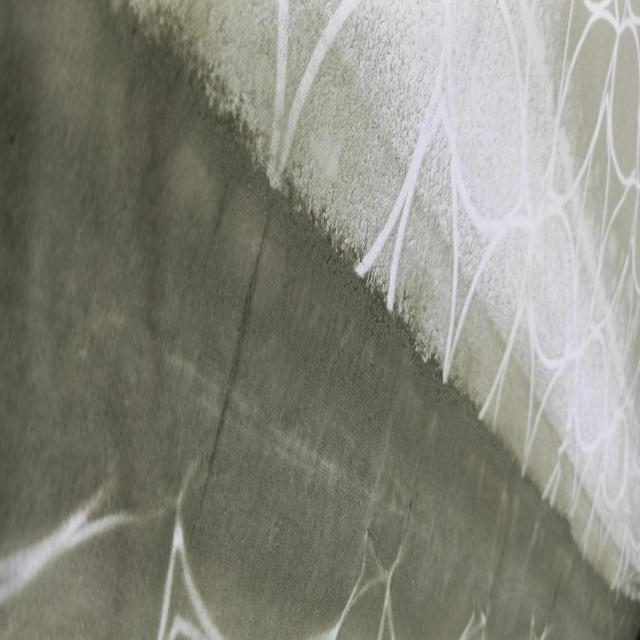baekra: (7, 23, 638, 618)
